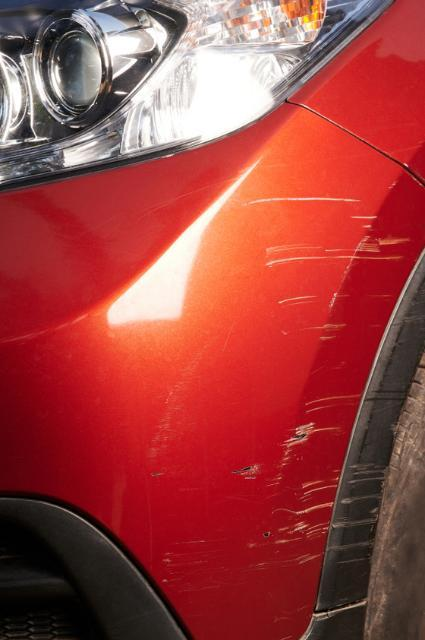Bumper: (182, 149, 408, 640)
